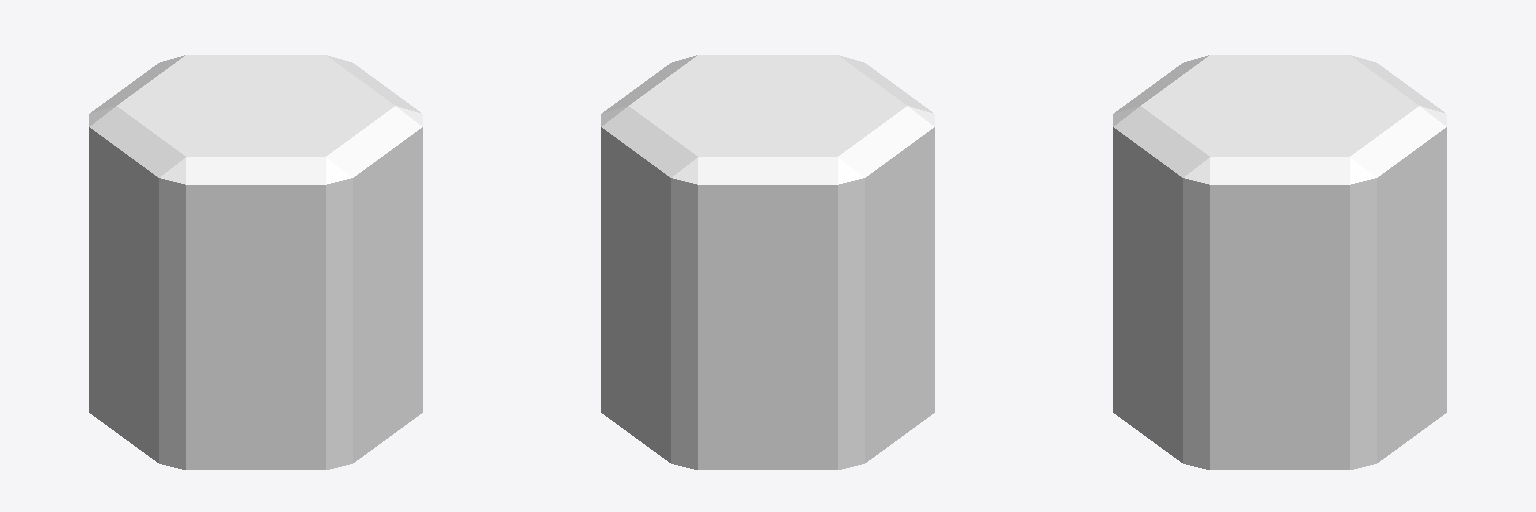
File: hex.obj
The picture shows the model from 3 angles: view 1: azimuth 30°, elevation 25°; view 2: azimuth 150°, elevation 25°; view 3: azimuth 270°, elevation 25°; orthographic projection.
Parts seen in each view (by area): view 1: Circle; view 2: Circle; view 3: Circle.
Boxes of the visible parts, <box> form: Circle: <box>89,55,422,469</box>; Circle: <box>601,55,934,469</box>; Circle: <box>1113,55,1446,469</box>.
Bounding box in the file's own units: 0.966 × 1.05 × 1.06.